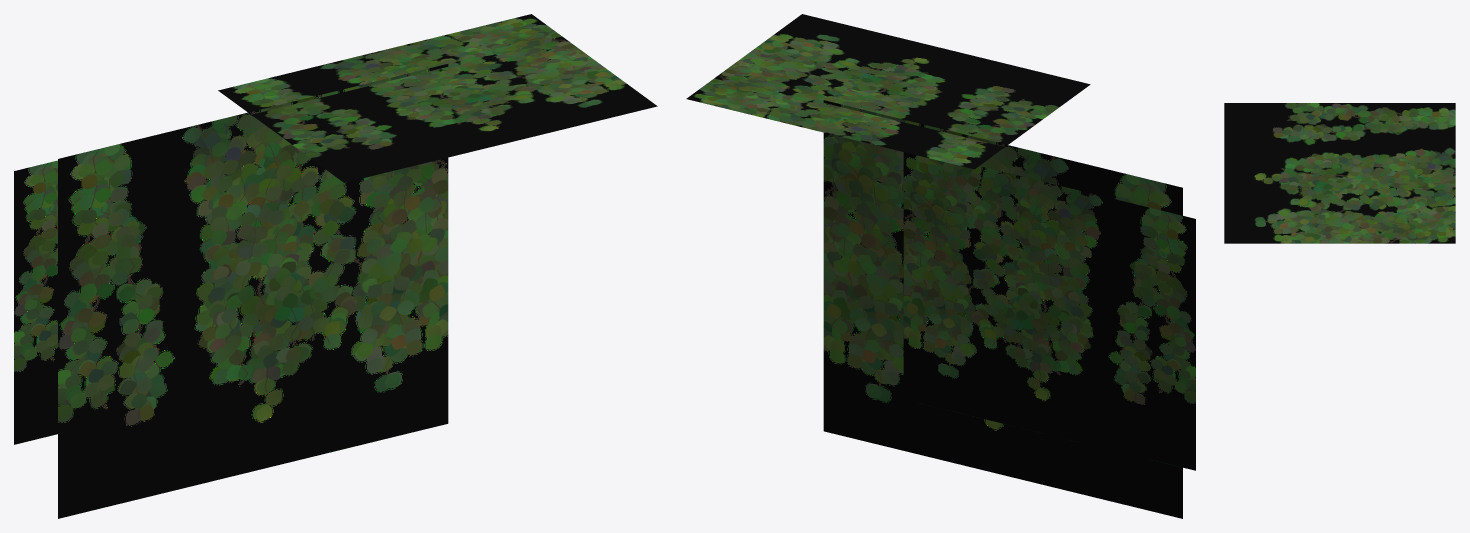
File: Prop_Vine6_LOD2.gltf
3 renders of one model, left to right at view 1: azimuth 30°, elevation 25°; view 2: azimuth 150°, elevation 25°; view 3: azimuth 270°, elevation 25°, orthographic. The views are drawn at different scales.
Parts seen in each view (by area): view 1: Prop_Vine6_LOD2; view 2: Prop_Vine6_LOD2; view 3: Prop_Vine6_LOD2.
Boxes of the visible parts, <box> form: Prop_Vine6_LOD2: <box>14,14,657,518</box>; Prop_Vine6_LOD2: <box>686,14,1195,518</box>; Prop_Vine6_LOD2: <box>1224,103,1455,243</box>.
Bounding box in the file's own units: 3.61 × 2.31 × 1.47.
1 material, 1 textured.
